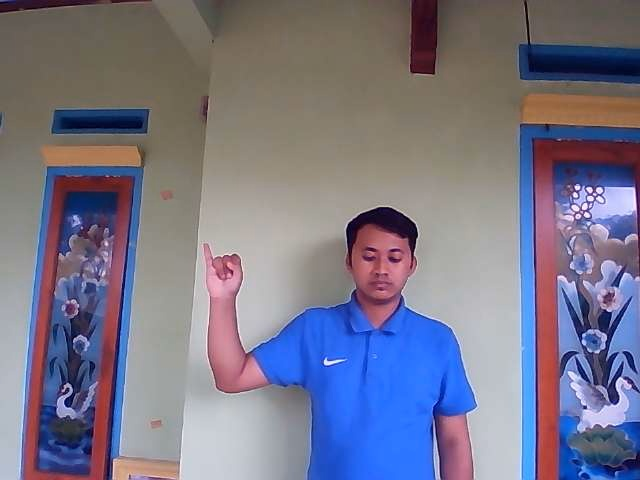I: (201, 241, 245, 301)
